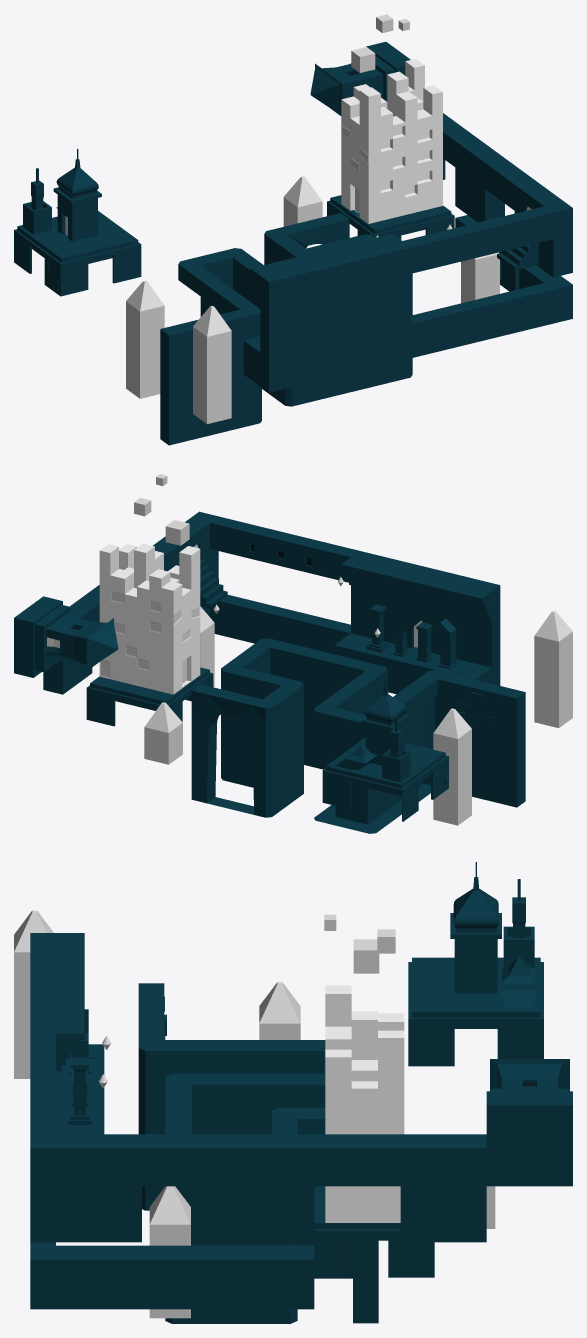
File: mapageneral.fbx
3 views of the same model, one above another, from view 1: azimuth 30°, elevation 25°; view 2: azimuth 150°, elevation 25°; view 3: azimuth 270°, elevation 25° (orthographic). The views are drawn at different scales.
Parts seen in each view (by area): view 1: Cube.009, Cube.003, Cube.002, Cube.005, Cube.012, Cube.006, Cube.010, Cube.011, Cube.057, Cube.059; view 2: Cube.009, Cube.003, Cube.002, Cube.005, Cube.012, Cube.006, Cube.010, Cube.057, Cube.011, Cube.059; view 3: Cube.009, Cube.003, Cube.005, Cube.002, Cube.010, Cube.012, Cube.011, Cube.006, Cube.059.
Part boxes in pixels (left/top/right/bottom): Cube.009: left=243, top=41, right=572, bottom=392; Cube.003: left=160, top=213, right=412, bottom=445; Cube.002: left=341, top=58, right=442, bottom=223; Cube.005: left=14, top=148, right=141, bottom=296; Cube.012: left=193, top=306, right=231, bottom=424; Cube.006: left=126, top=280, right=164, bottom=398; Cube.010: left=327, top=195, right=454, bottom=239; Cube.011: left=461, top=252, right=499, bottom=303; Cube.057: left=283, top=176, right=322, bottom=226; Cube.059: left=351, top=47, right=375, bottom=72; Cube.009: left=14, top=511, right=500, bottom=694; Cube.003: left=191, top=638, right=525, bottom=833; Cube.002: left=99, top=543, right=200, bottom=694; Cube.005: left=322, top=675, right=448, bottom=821; Cube.012: left=534, top=611, right=572, bottom=728; Cube.006: left=433, top=708, right=471, bottom=825; Cube.010: left=86, top=667, right=213, bottom=726; Cube.057: left=144, top=702, right=182, bottom=764; Cube.011: left=200, top=606, right=214, bottom=687; Cube.059: left=165, top=520, right=189, bottom=545; Cube.009: left=30, top=933, right=572, bottom=1309; Cube.003: left=138, top=983, right=378, bottom=1323; Cube.005: left=408, top=862, right=543, bottom=1066; Cube.002: left=325, top=985, right=404, bottom=1222; Cube.010: left=299, top=1186, right=434, bottom=1277; Cube.012: left=14, top=910, right=53, bottom=1078; Cube.011: left=149, top=1186, right=190, bottom=1318; Cube.006: left=259, top=982, right=300, bottom=1039; Cube.059: left=353, top=939, right=379, bottom=973.
Size of the model in its own units: 5011 by 3780 by 4359.
